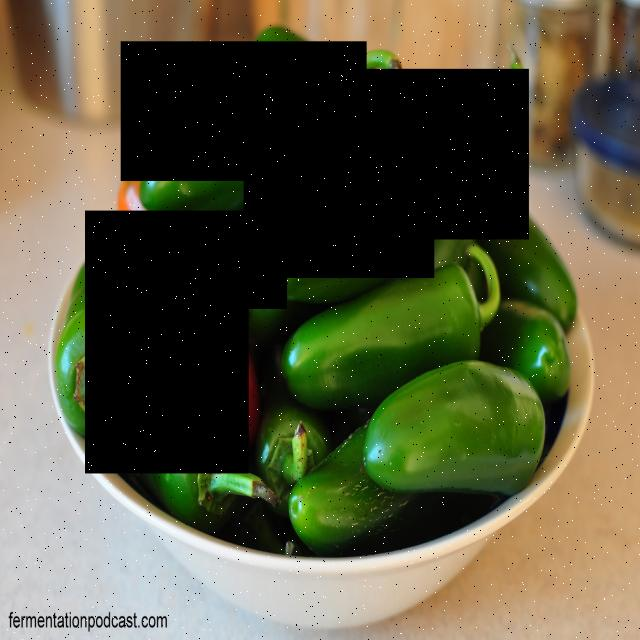Chili_Pepper: (85, 211, 249, 473), (120, 42, 367, 181), (287, 278, 510, 429), (349, 69, 529, 240), (244, 156, 435, 309)
